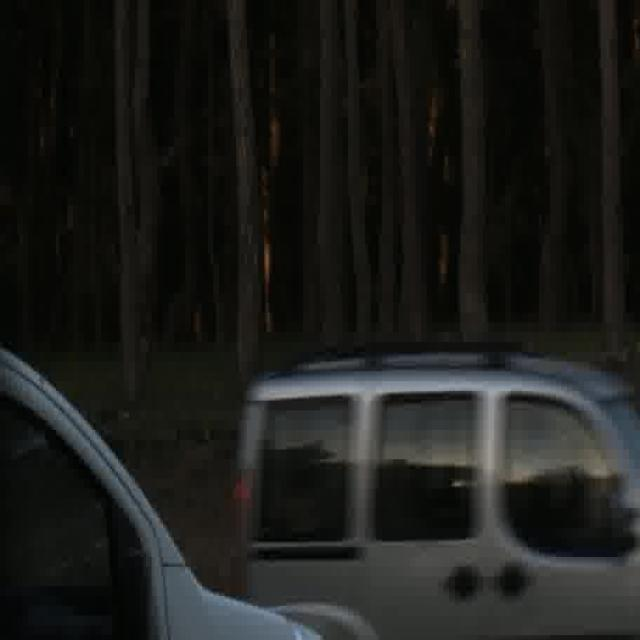Car: (237, 343, 637, 640), (0, 320, 320, 640)
